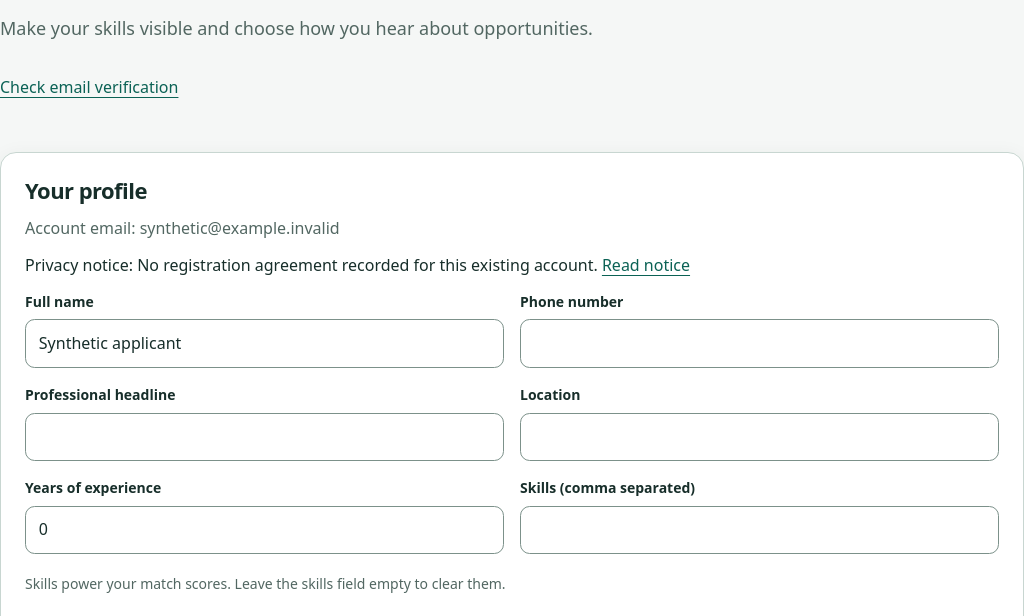
Test: refreshes skill matches after a successful profile save
Step 1. Type "Python" into the field labelled "Skills (comma separated)" → (760, 530), box [520,506,999,554]
(page scrolled)
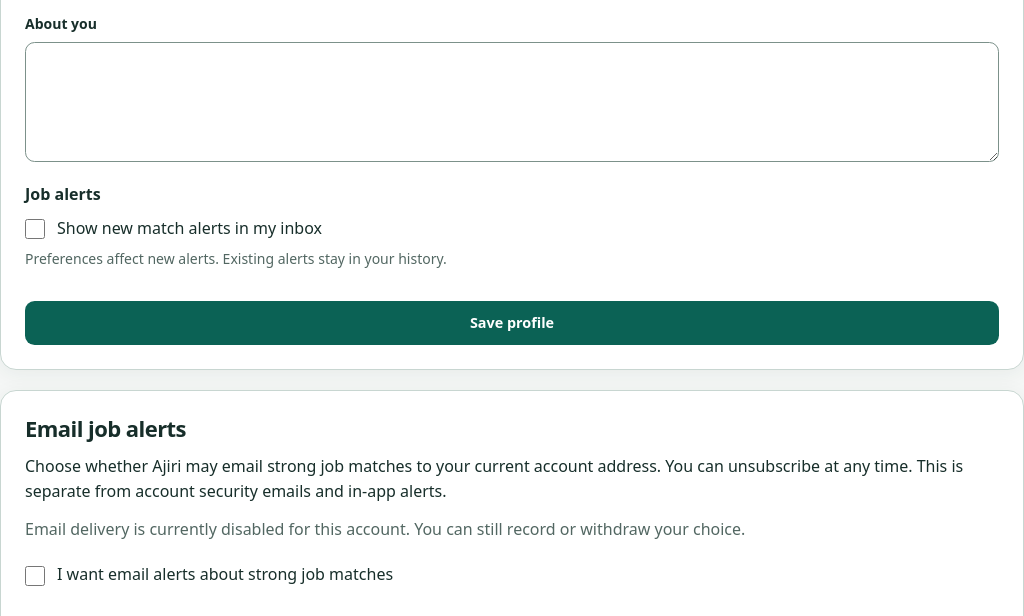
Step 2. Click the button "Save profile" → (512, 323), box [25,301,999,345]
(page scrolled)
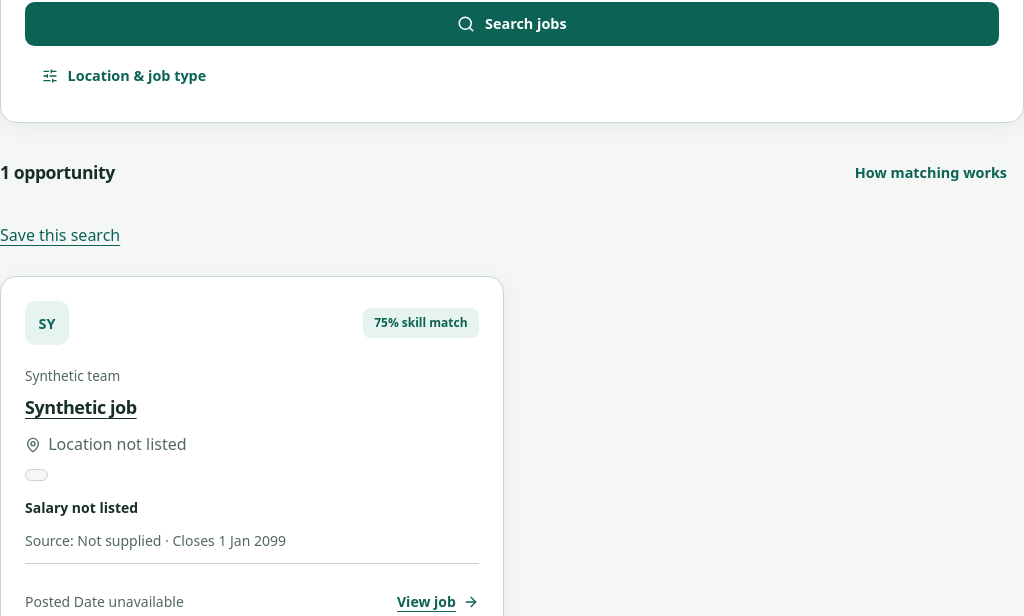
Expected: the text "75% skill match" is shown, [363,308,479,338]
